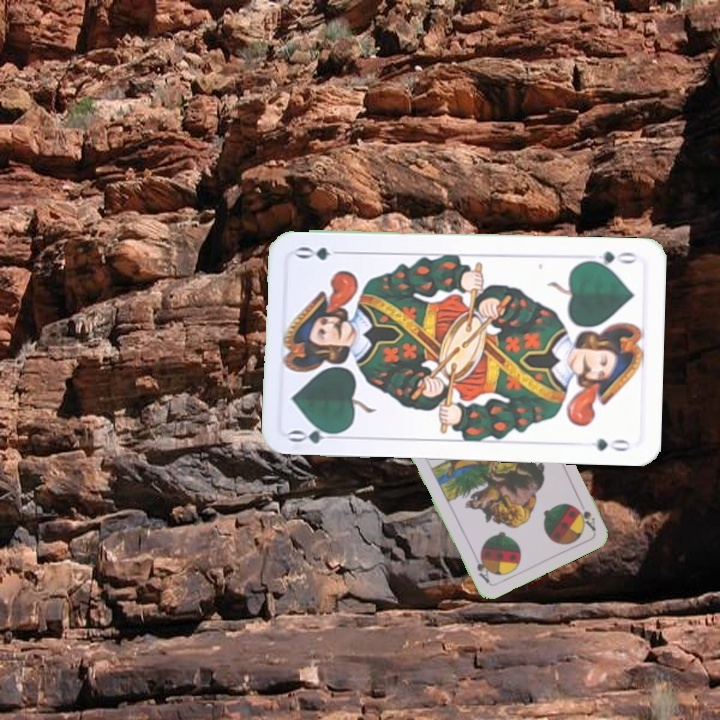GO: (286, 421, 345, 446), (581, 247, 639, 271)
SA: (572, 495, 598, 533)
